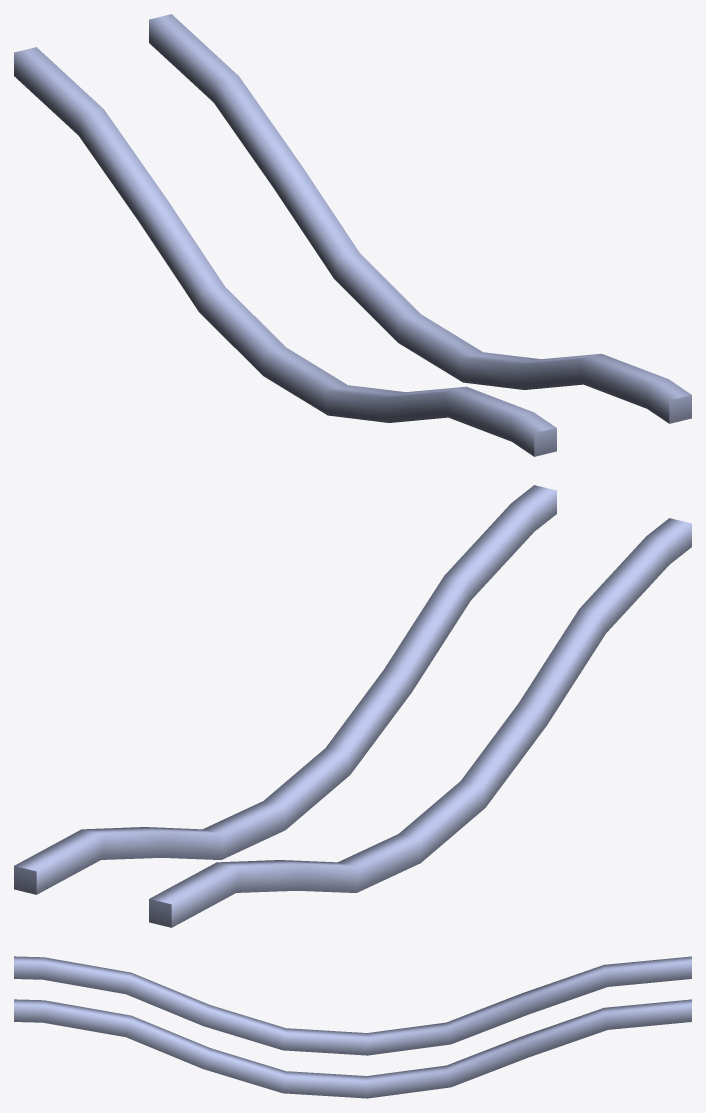
The model's file is railroad-rail-straight-bump-down.glb.
The picture shows the model from 3 angles, top to bottom: view 1: azimuth 30°, elevation 25°; view 2: azimuth 150°, elevation 25°; view 3: azimuth 270°, elevation 25°; orthographic projection. The views are drawn at different scales.
Visible parts, largest first — view 1: railroad-rail-straight-bump-down; view 2: railroad-rail-straight-bump-down; view 3: railroad-rail-straight-bump-down.
Boxes of the visible parts, x1=… form: railroad-rail-straight-bump-down: x1=14, y1=14, x2=691, y2=456; railroad-rail-straight-bump-down: x1=14, y1=485, x2=691, y2=927; railroad-rail-straight-bump-down: x1=14, y1=956, x2=691, y2=1098.
Bounding box in the file's own units: 0.7 × 0.5987 × 4.
Materials: 1 (1 with a texture image).
